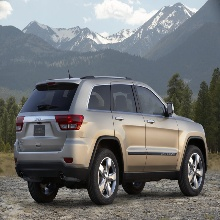no damage: (12, 74, 209, 205)
